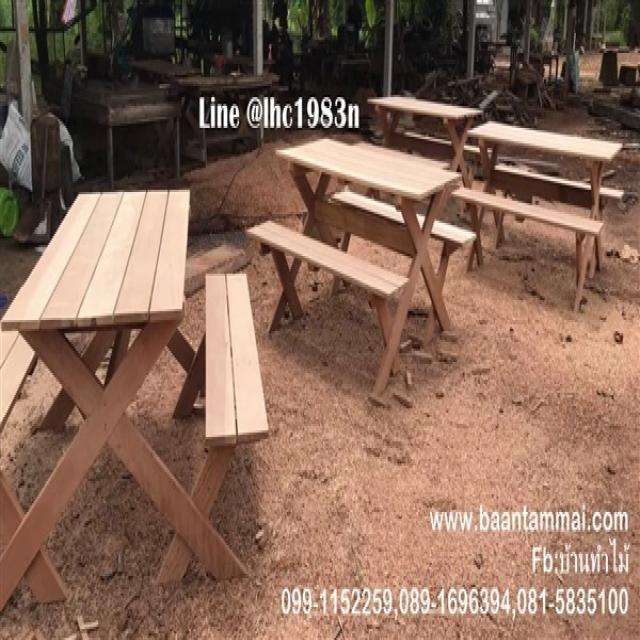table: (2, 172, 198, 356), (270, 126, 456, 256), (466, 96, 621, 204)
